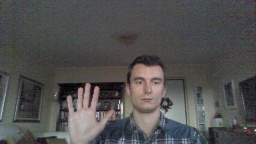Mano_aperta: (63, 80, 116, 144)
